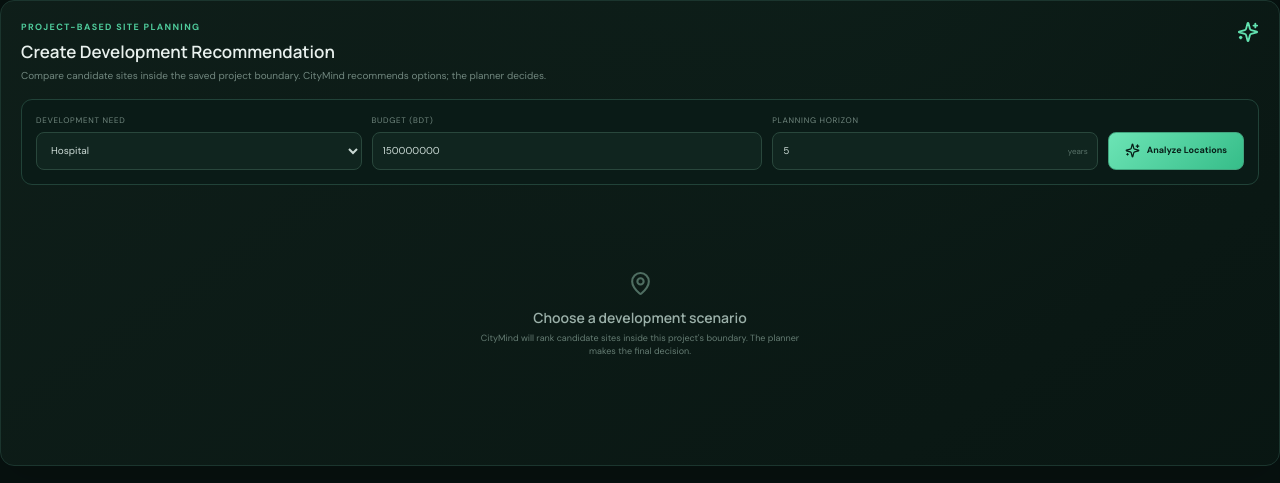
Test: SmartRecommendationEngine › renders a safe no-candidate state
What coordinates should you click on to do the following:
click the button "Analyze Locations"
I would click on:
 (1176, 150)
Its box is left=1108, top=132, right=1244, bottom=170.
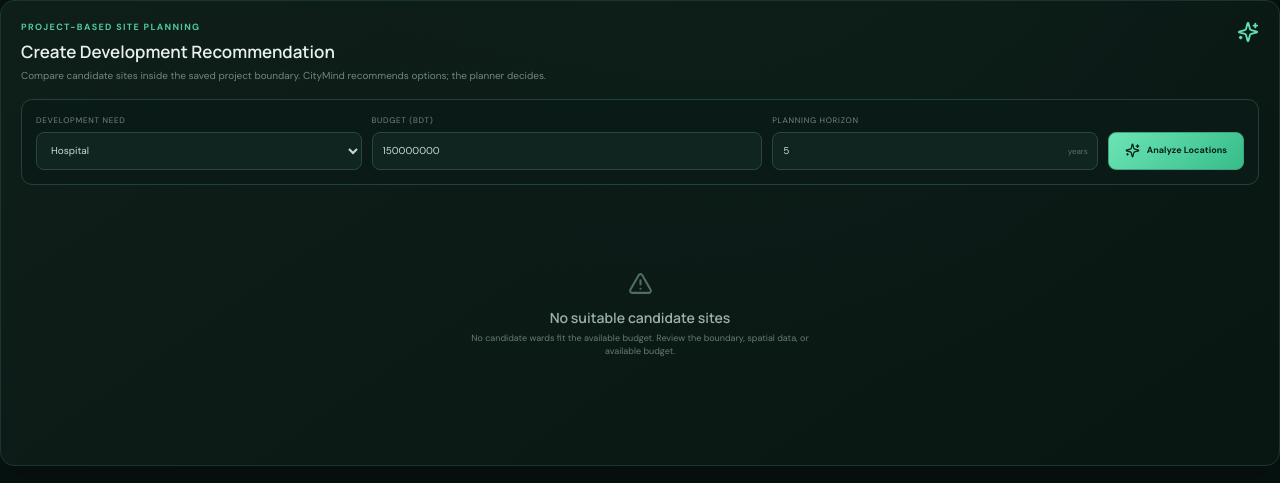
Expected: the heading "No suitable candidate sites" is shown, left=550, top=308, right=730, bottom=326
